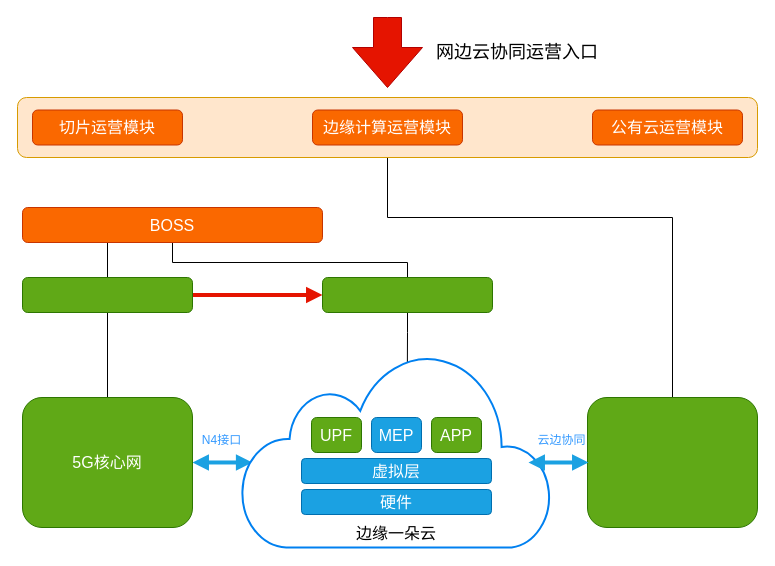
The diagram is 775 pixels wide and 566 high, and some of its shapes have lost their labels. Here are the shapes that lost their labels. From the top down, the centre of each, then its label:
the point at 107,294: 业务编排中心
the point at 407,294: 边缘云资源管理
the point at 672,462: 移动中心云
